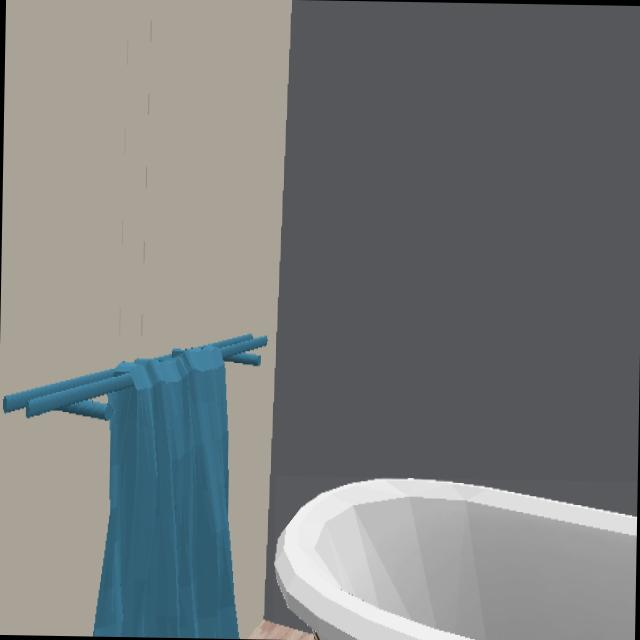bathtube: (274, 477, 637, 640)
